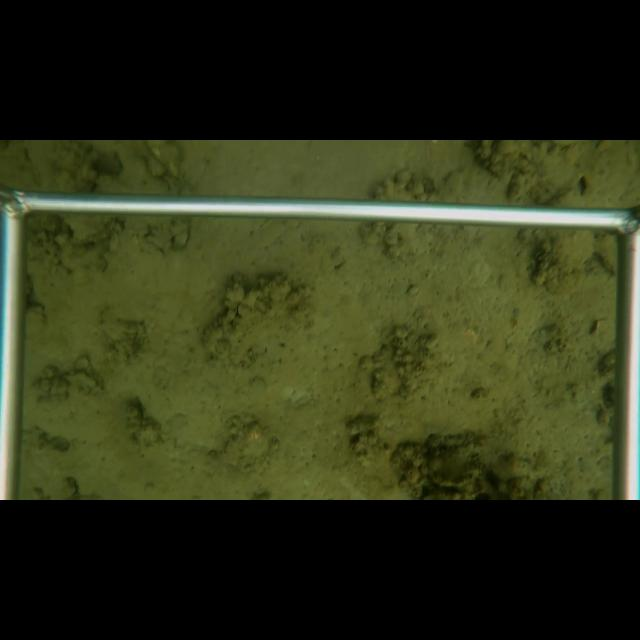Oyster-Closed: (530, 226, 595, 283), (221, 421, 278, 470), (63, 214, 120, 245), (598, 233, 618, 276)
